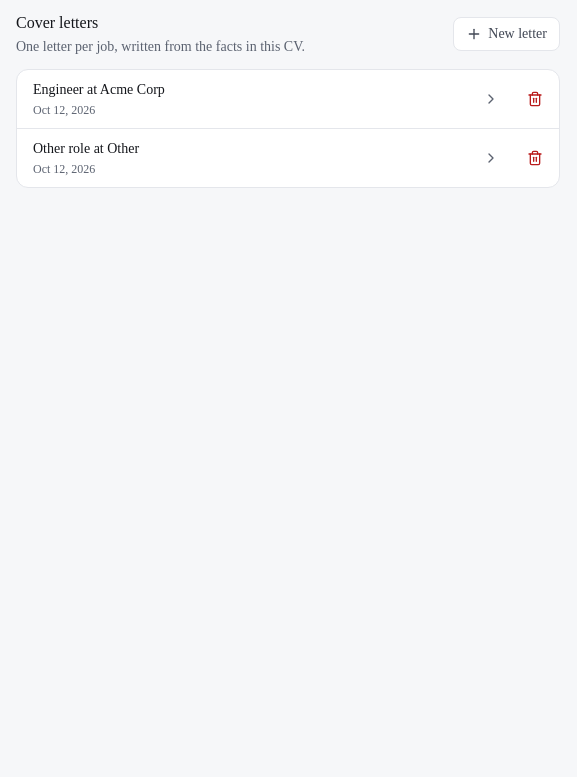
Scenario: CoverLetterPanel: copy and export act on the open letter › a failed export shows an inline error
Click the button "Engineer at Acme Corp Oct 12, 2026": [99, 90] box [17,70,515,128]
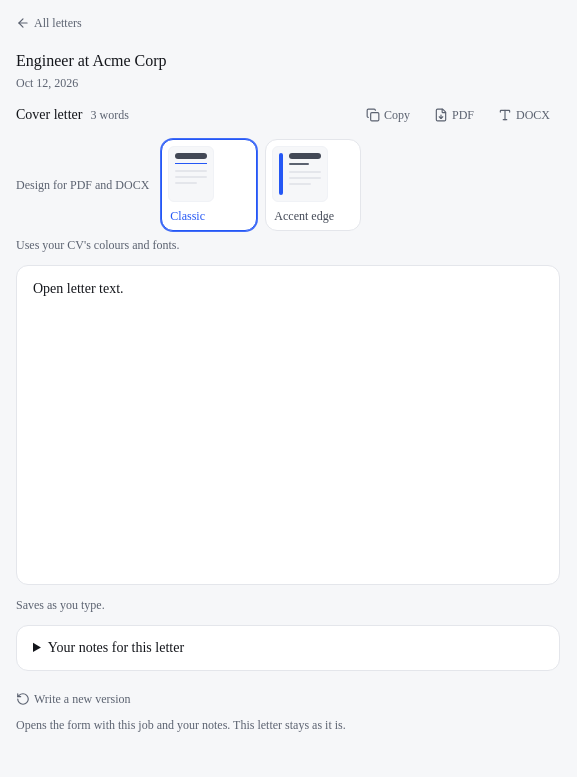
Click the button "PDF": [454, 115] box [424,103,484,127]
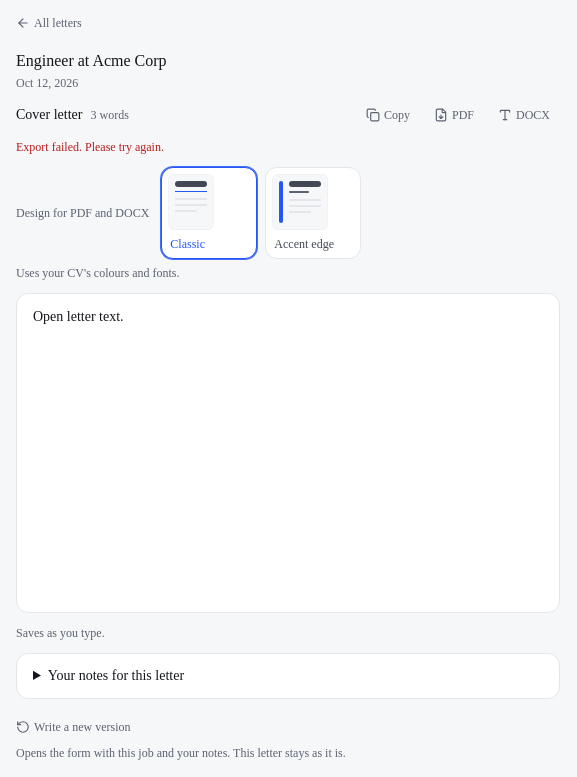
Now the text "Export failed. Please try again." is shown, box [16,140,164,154]
